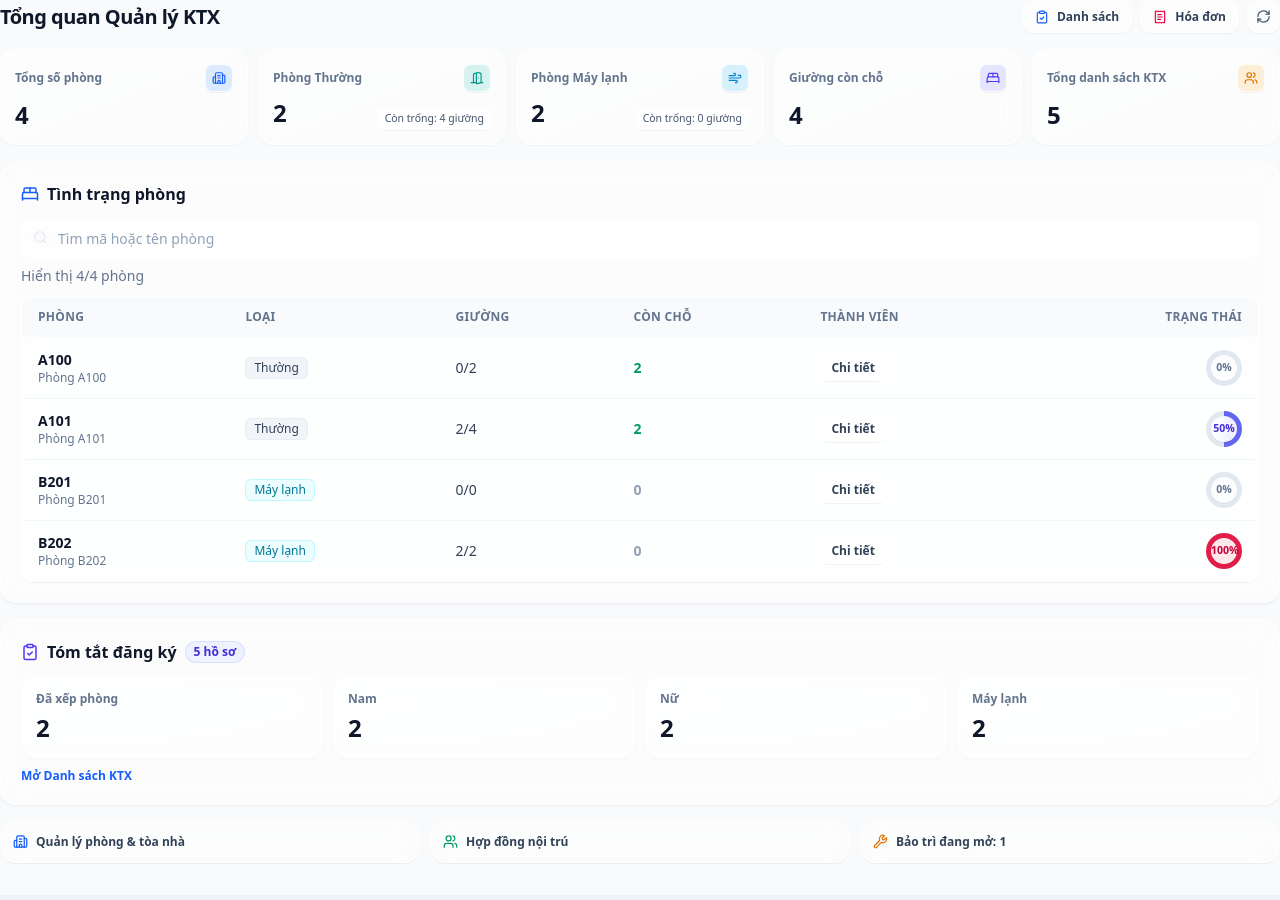
Test: DormitoryOverviewPage › opens member modal with full_name, class_name, handles fallback and closes properly
Check: the heading "Tổng quan Quản lý KTX" is shown, box [0, 2, 220, 30]
# Click Chi tiết for room A101 (has 2 members, one with missing class)
Click the button with aria-label "Xem thành viên phòng A101" at (853, 429), box [820, 416, 886, 442]
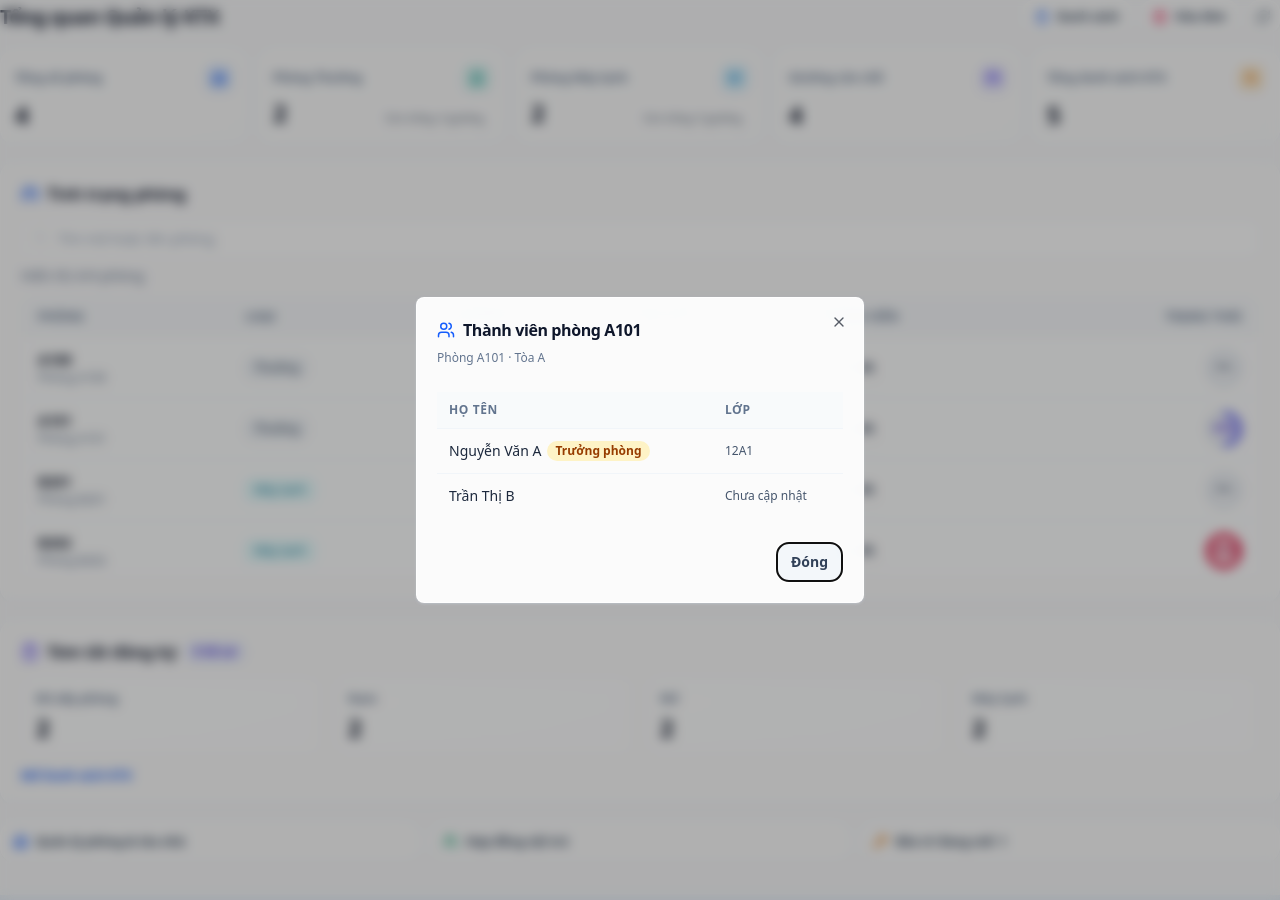
Check: the heading "Thành viên phòng A101" is shown, box [437, 319, 641, 341]
Check: the column heading "Họ tên" is shown, box [437, 392, 713, 428]
Check: the column heading "Lớp" is shown, box [713, 392, 843, 428]
# Close via close button
Click the button "Đóng" at (809, 562), box [776, 542, 843, 582]
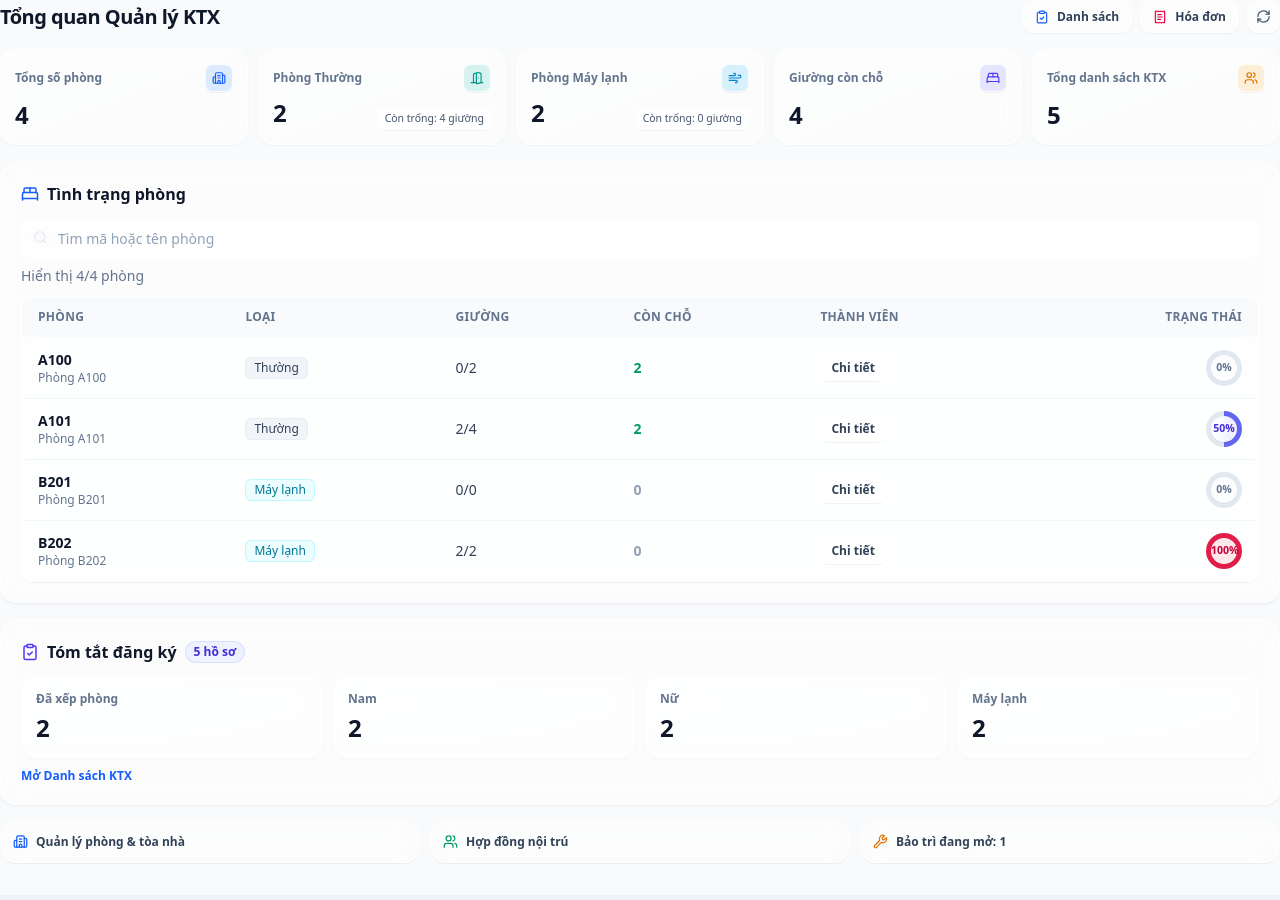
Check: the heading "Thành viên phòng A101" is gone
